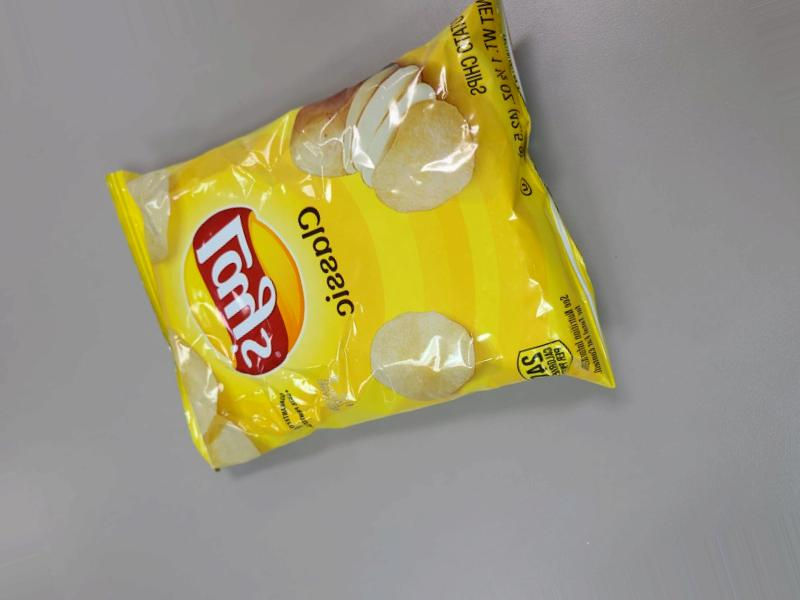lays: (65, 57, 586, 543)
